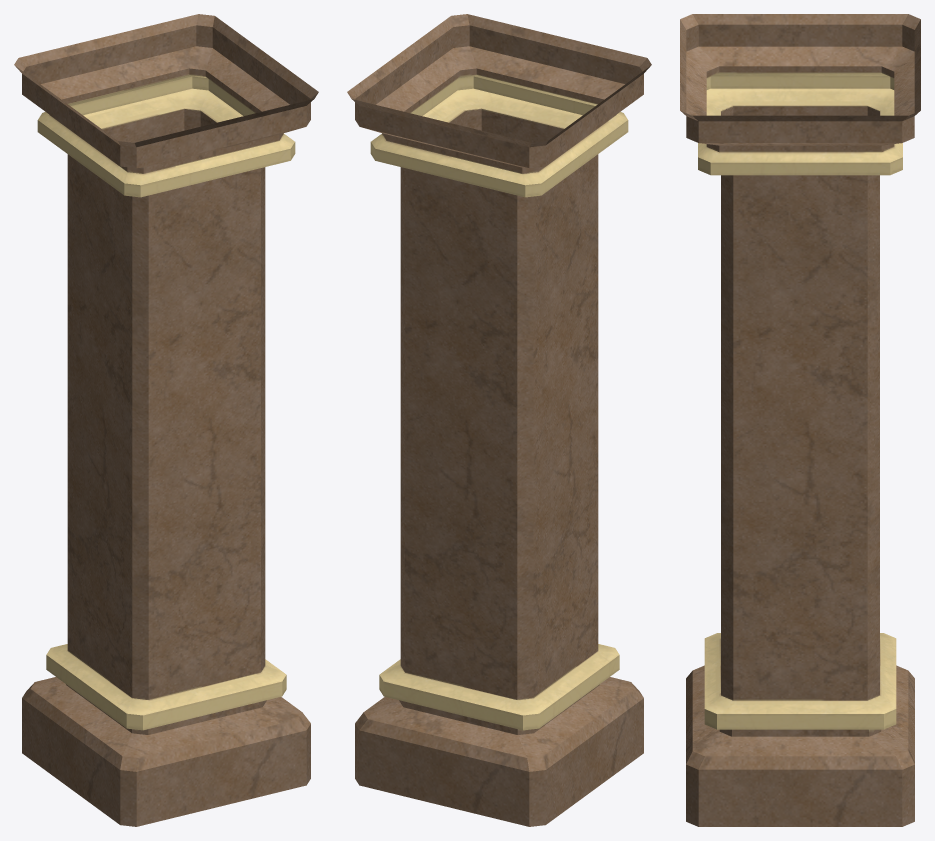
The model's file is Modeling_Pillar_90%.FBX.
3 renders of one model, left to right at view 1: azimuth 30°, elevation 25°; view 2: azimuth 150°, elevation 25°; view 3: azimuth 270°, elevation 25°, orthographic. The views are drawn at different scales.
Visible parts, largest first — view 1: Modeling_Pillar_90%; view 2: Modeling_Pillar_90%; view 3: Modeling_Pillar_90%.
Part boxes in pixels (<box>): Modeling_Pillar_90%: <box>14,14,318,826</box>; Modeling_Pillar_90%: <box>347,14,651,826</box>; Modeling_Pillar_90%: <box>680,14,920,826</box>.
Bounding box in the file's own units: 105 × 344 × 105.
